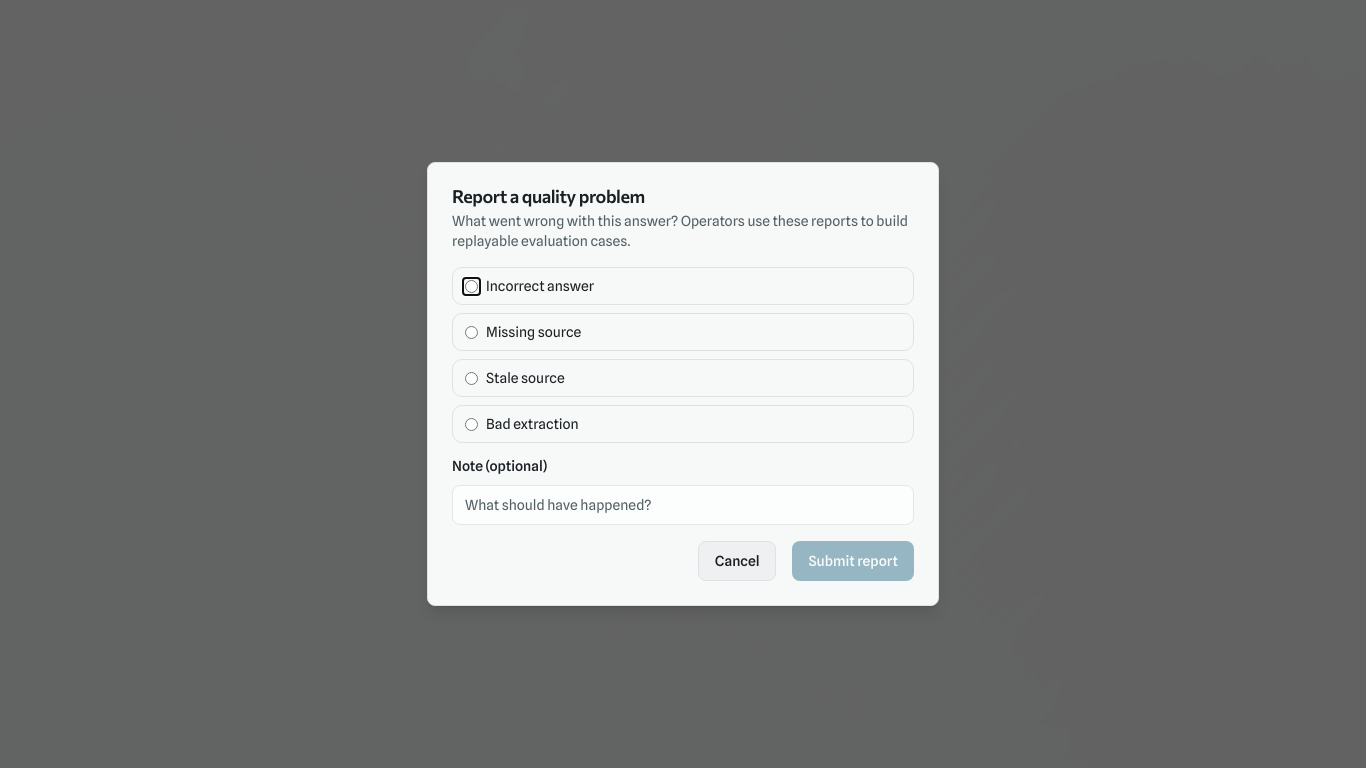
Test: QualityReportDialog (issue #237 PRODUCT-ENH-12) › disables submit until a category is selected
expect the button with test id "quality-report-submit" is disabled: met, box [792,541,914,581]
Click the radio button with test id "quality-category-incorrect_answer".
click(472, 286)  # box [465,280,478,292]
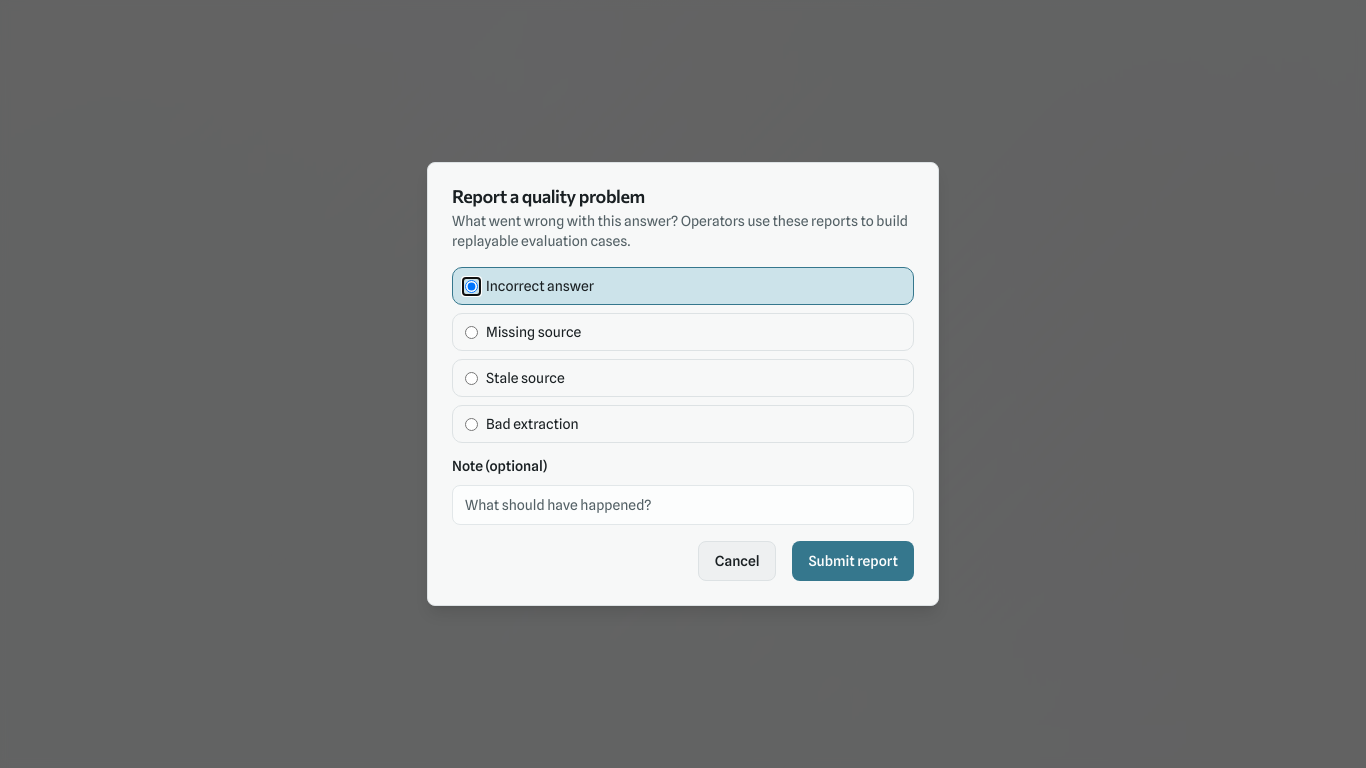
expect the button with test id "quality-report-submit" is enabled: met, box [792,541,914,581]
